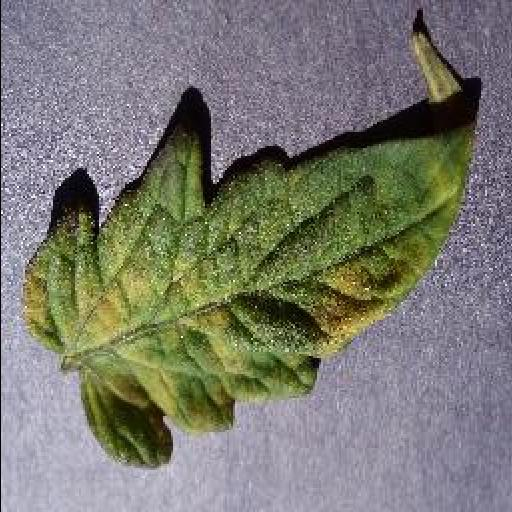disease_tomato: (20, 131, 478, 471)
